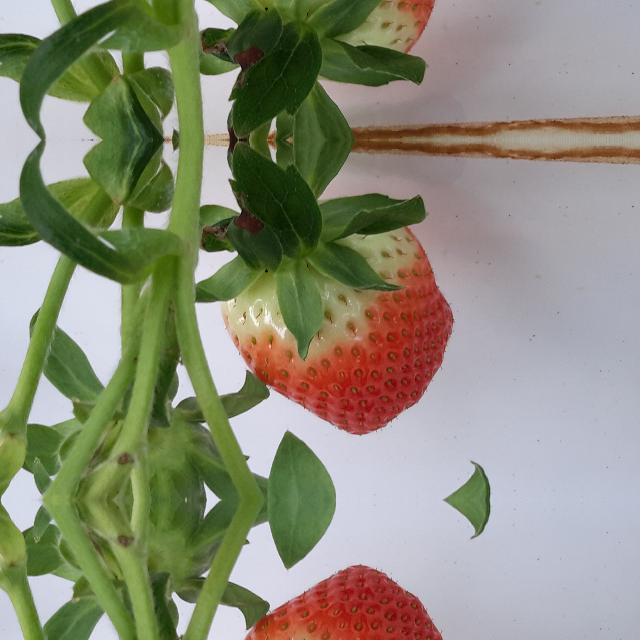Health_75: (221, 222, 453, 436), (221, 564, 453, 640), (221, 0, 453, 57)
